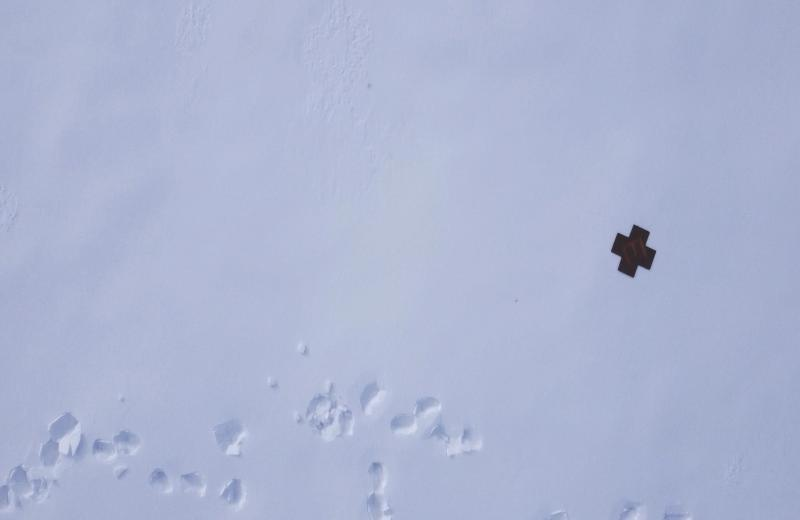Cross: (611, 224, 656, 280)
